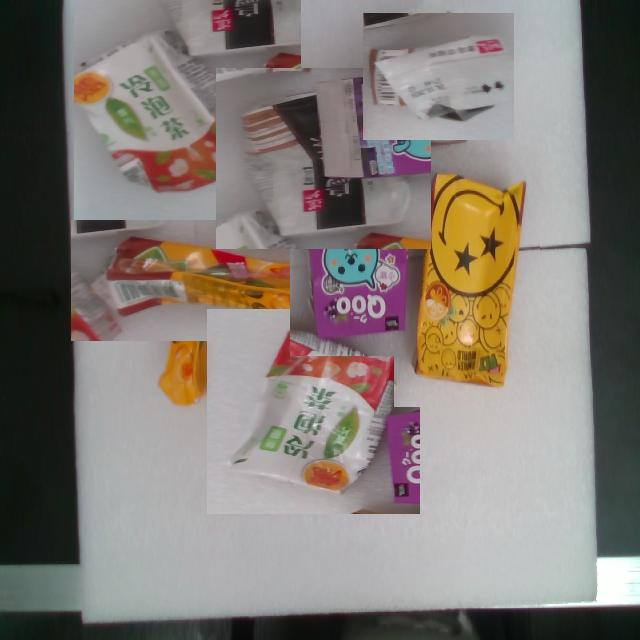juicebox: (48, 0, 301, 228), (206, 298, 420, 537), (215, 61, 431, 268), (394, 146, 541, 407), (72, 218, 342, 349), (285, 133, 429, 356), (362, 14, 530, 154)
